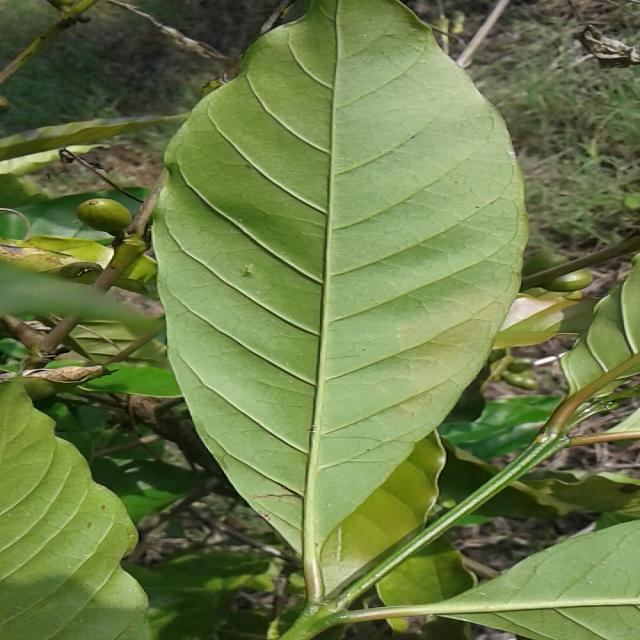Sanas: (150, 0, 529, 558)
